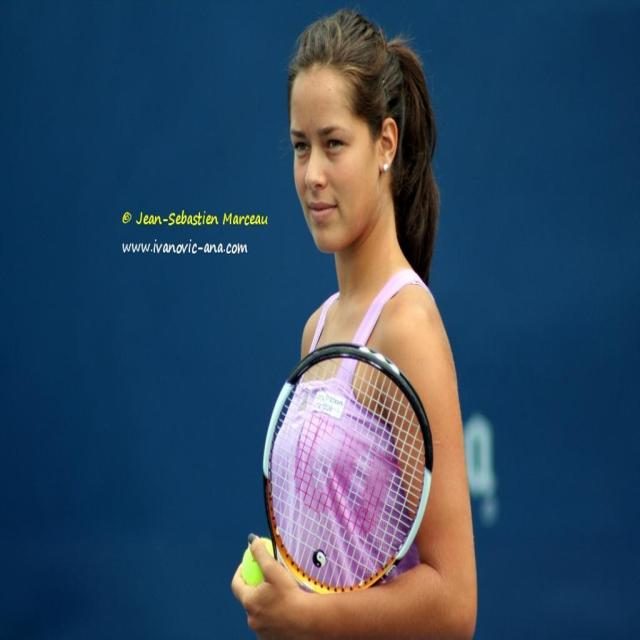Face: (286, 47, 378, 271)
